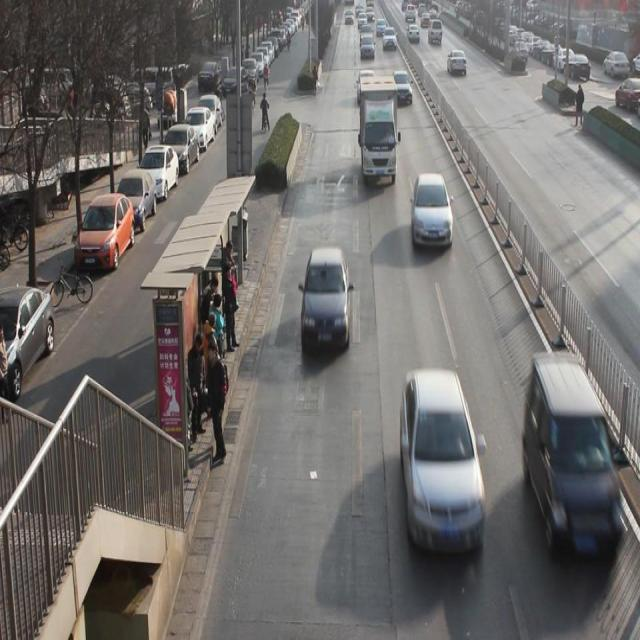bus: (359, 82, 398, 188)
car: (528, 353, 618, 564), (398, 366, 487, 556), (298, 248, 354, 352), (410, 172, 458, 255), (355, 69, 378, 105), (392, 68, 413, 106), (448, 49, 469, 73), (360, 35, 376, 59), (383, 27, 397, 50)
